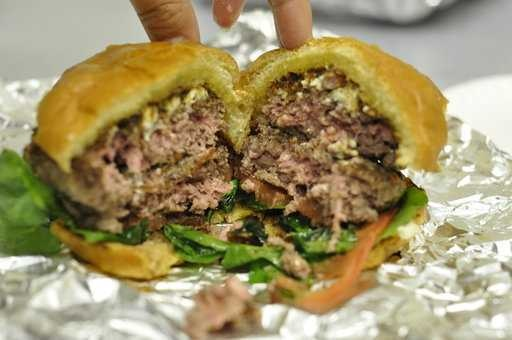hamburger: (47, 30, 438, 252)
